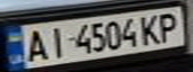0: (106, 17, 124, 51)
4: (69, 20, 93, 55), (121, 15, 142, 47)
5: (90, 19, 109, 53)
A: (21, 26, 51, 63)
I: (42, 24, 69, 58)
K: (136, 11, 166, 45)
P: (154, 10, 184, 43)
